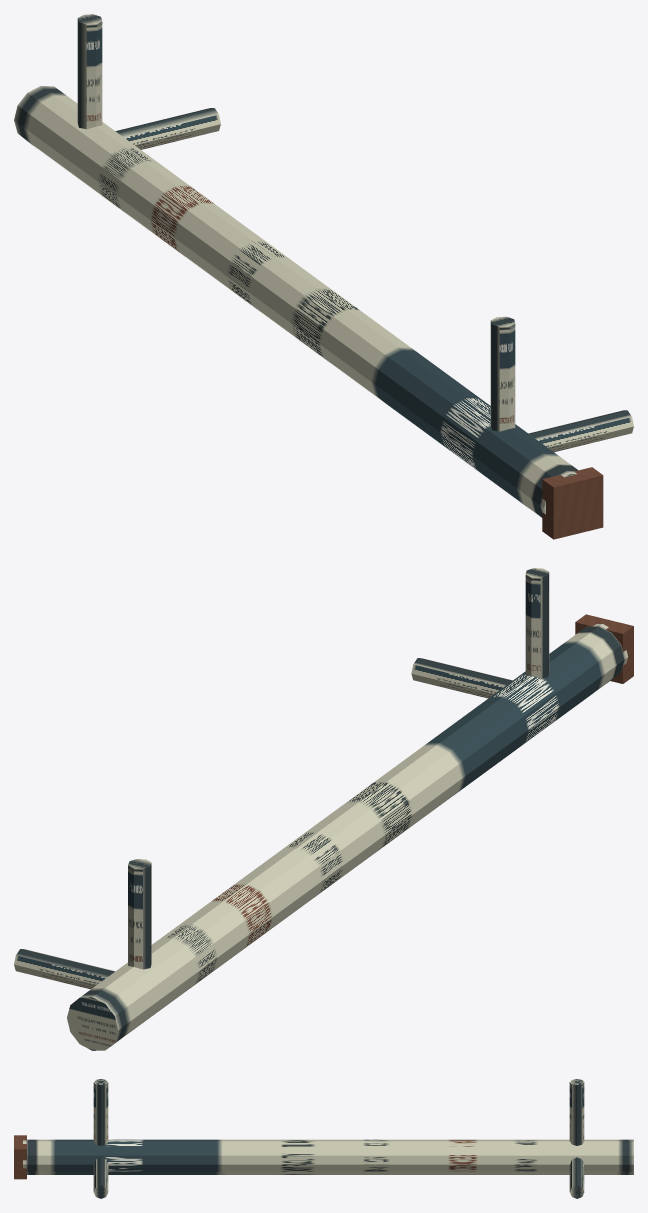
Rendered from PZ_RAD_07_Fence_Corner_90deg.glb.
3 renders of one model, top to bottom at view 1: azimuth 30°, elevation 25°; view 2: azimuth 150°, elevation 25°; view 3: azimuth 270°, elevation 25°, orthographic. The views are drawn at different scales.
Parts seen in each view (by area): view 1: CORNER_Corner_Post, CORNER_FenceJoin_2_ShortTopBottomRail, CORNER_FenceJoin_1_ShortTopBottomRail, CORNER_Corner_PostCap; view 2: CORNER_Corner_Post, CORNER_FenceJoin_2_ShortTopBottomRail, CORNER_FenceJoin_1_ShortTopBottomRail, CORNER_Corner_PostCap; view 3: CORNER_Corner_Post, CORNER_FenceJoin_2_ShortTopBottomRail, CORNER_FenceJoin_1_ShortTopBottomRail, CORNER_Corner_PostCap.
Boxes of the visible parts, x1,y1,x2,y2 form: CORNER_Corner_Post: (14,86,578,517); CORNER_FenceJoin_2_ShortTopBottomRail: (77,14,515,431); CORNER_FenceJoin_1_ShortTopBottomRail: (115,108,633,452); CORNER_Corner_PostCap: (542,467,603,539); CORNER_Corner_Post: (67,624,628,1050); CORNER_FenceJoin_2_ShortTopBottomRail: (128,568,549,969); CORNER_FenceJoin_1_ShortTopBottomRail: (14,658,512,989); CORNER_Corner_PostCap: (575,614,633,683); CORNER_Corner_Post: (23,1139,633,1174); CORNER_FenceJoin_2_ShortTopBottomRail: (93,1079,584,1145); CORNER_FenceJoin_1_ShortTopBottomRail: (93,1157,584,1198); CORNER_Corner_PostCap: (14,1135,26,1179).
Size of the model in its own units: 0.425 by 0.425 by 2.62.
1 material, 1 textured.
